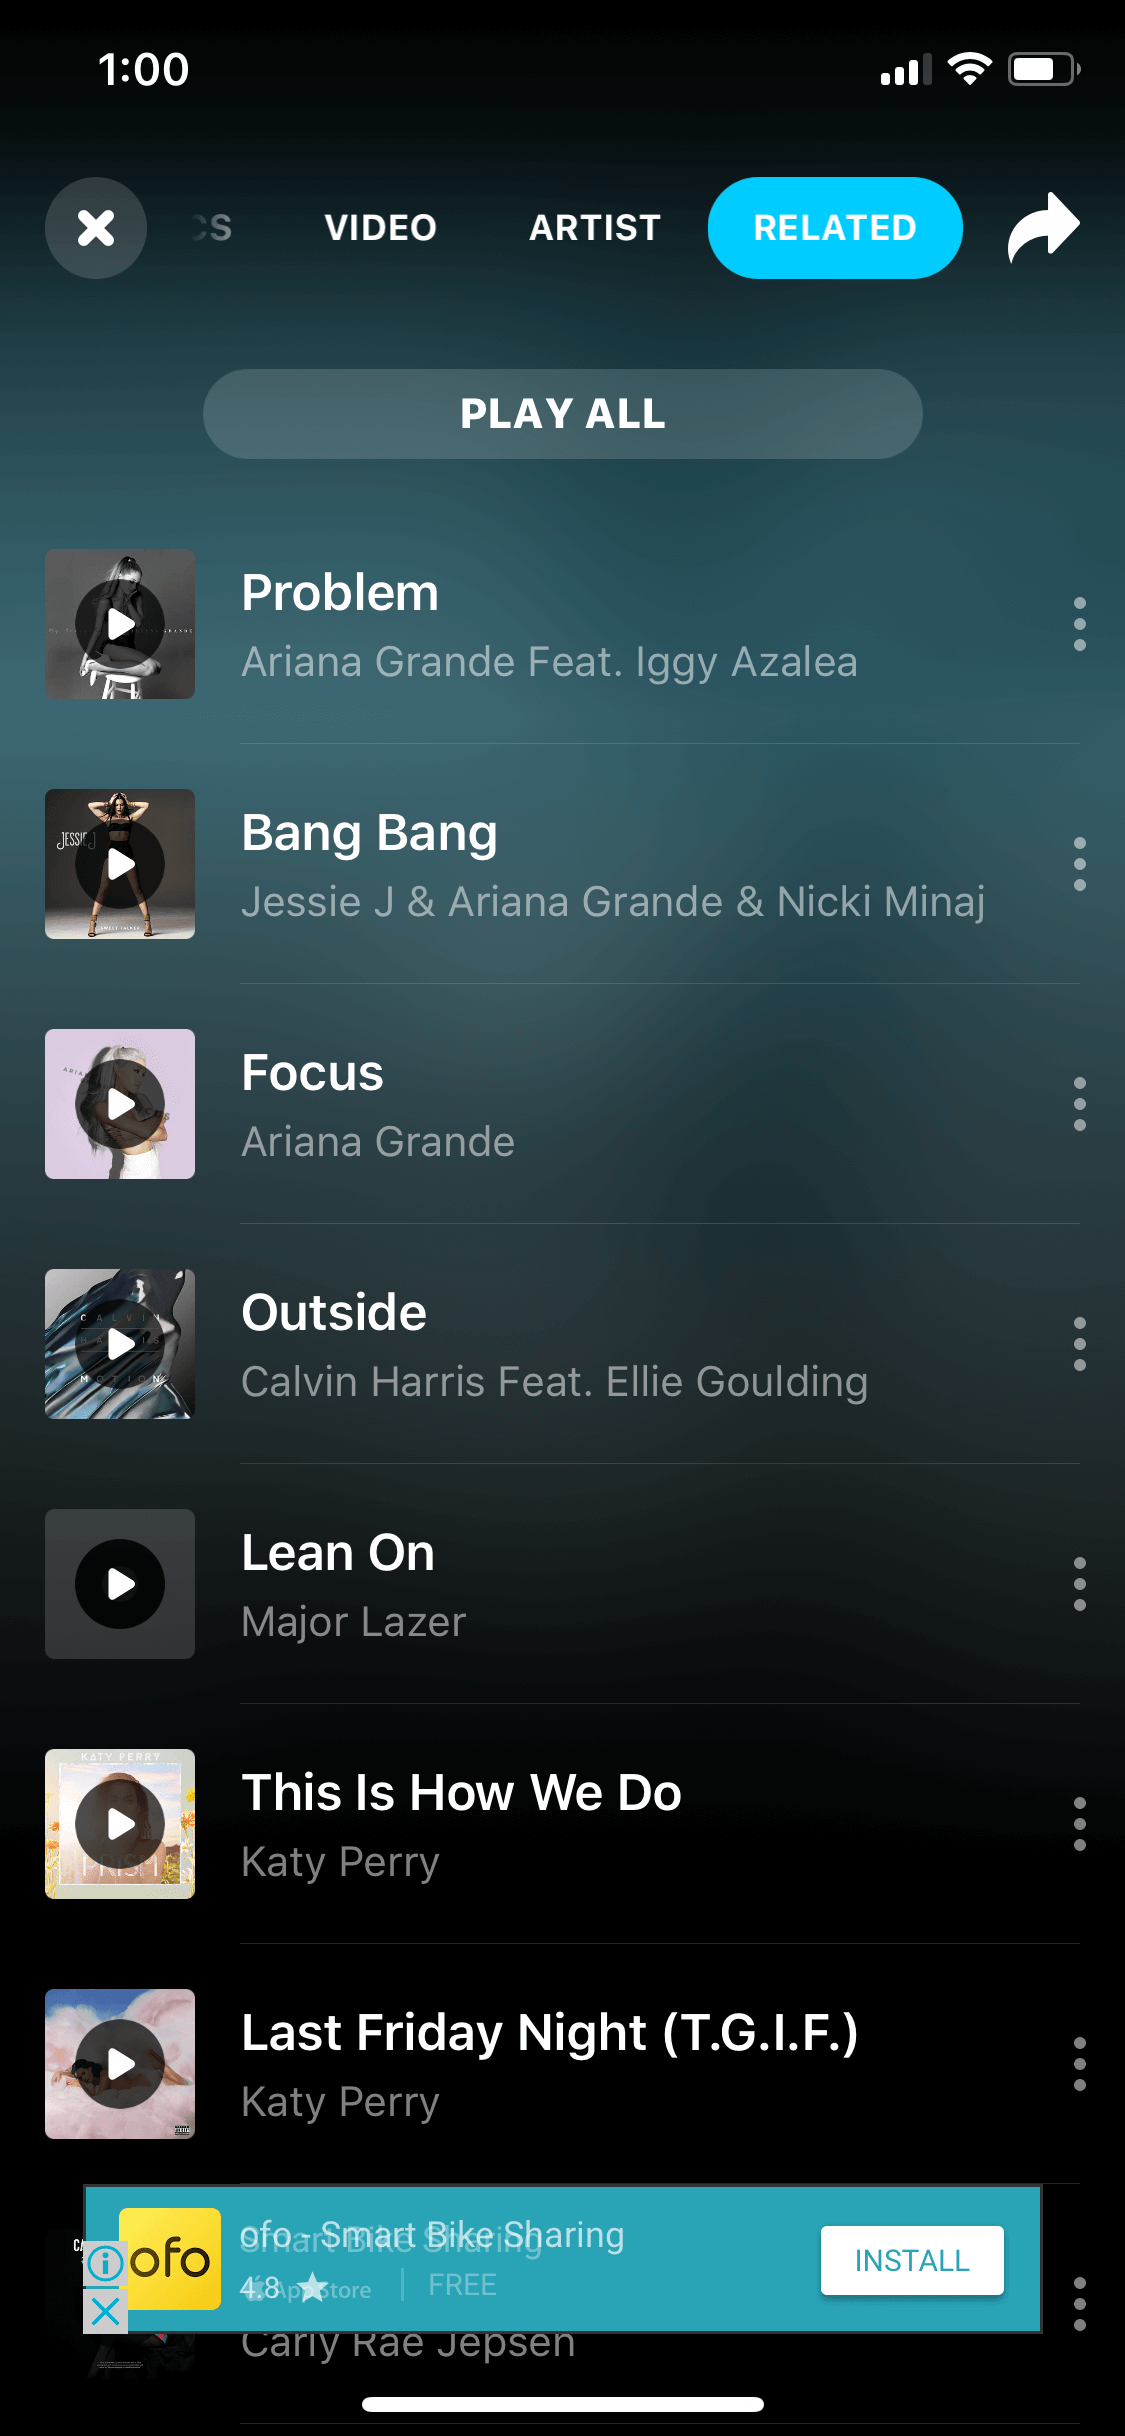Buttons: (186, 353, 931, 477), (806, 2212, 1019, 2312), (23, 151, 157, 294), (990, 152, 1103, 297), (1036, 1978, 1125, 2119), (1035, 1754, 1125, 1877), (1040, 1526, 1125, 1644), (1040, 1289, 1125, 1394), (1036, 1053, 1125, 1153), (1040, 809, 1125, 907), (1036, 575, 1125, 662), (1049, 2246, 1125, 2343)
